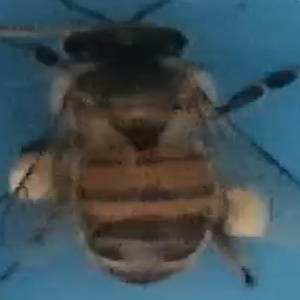bee: (5, 3, 292, 289)
